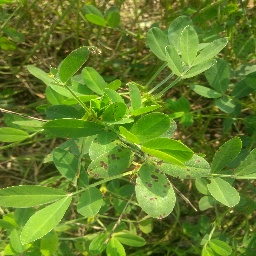GroundNut_Leaf: (133, 164, 177, 220), (52, 144, 88, 187), (88, 143, 131, 178), (22, 209, 62, 246), (1, 185, 64, 208), (127, 111, 172, 142), (211, 135, 244, 175), (57, 45, 91, 82), (39, 118, 105, 137), (204, 177, 241, 208), (179, 23, 199, 68), (201, 35, 230, 61), (77, 189, 102, 218), (144, 26, 165, 60), (1, 126, 30, 144)
